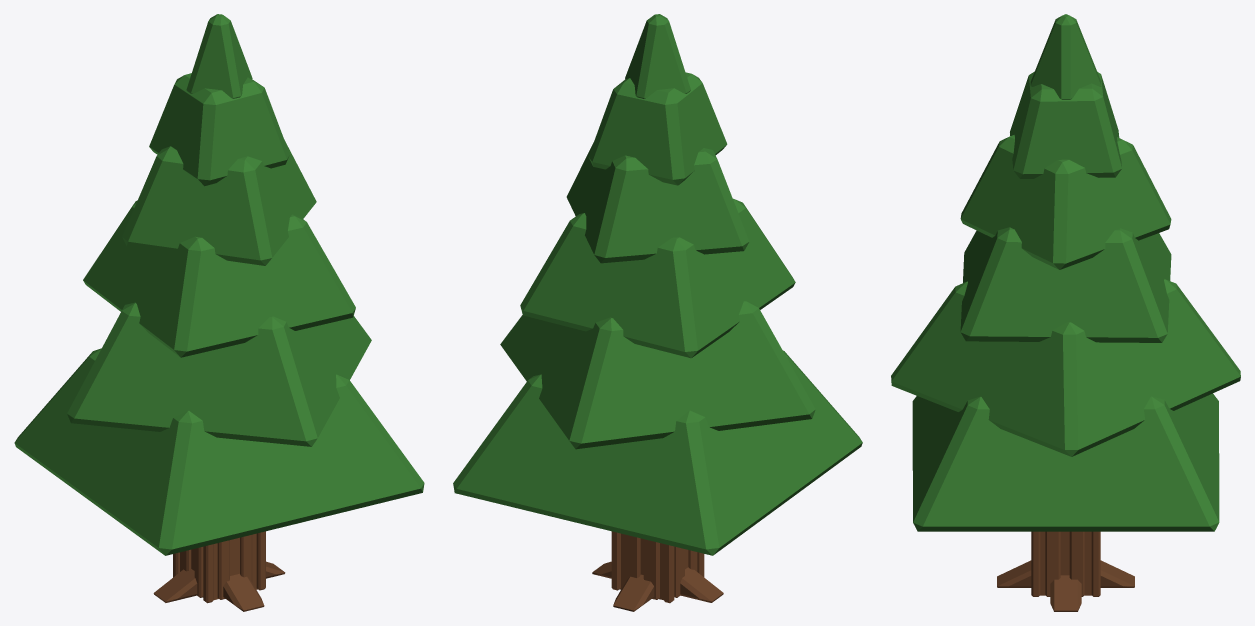
Rendered from Pine.fbx.
The picture shows the model from 3 angles, left to right: view 1: azimuth 30°, elevation 25°; view 2: azimuth 150°, elevation 25°; view 3: azimuth 270°, elevation 25°; orthographic projection.
Visible parts, largest first — view 1: Leaves, LeafBlock_1, LeafBlock_2, LeafBlock_3, LeafBlock_4, Trunk, LeafBlock_5, Root_3, Root_2; view 2: Leaves, LeafBlock_1, LeafBlock_2, LeafBlock_3, LeafBlock_4, Trunk, LeafBlock_5, Root_1, Root_2; view 3: Leaves, LeafBlock_1, LeafBlock_2, LeafBlock_3, LeafBlock_4, Trunk, LeafBlock_5, Root_4, Root_1, Root_3.
Boxes of the visible parts, left/top/right/bottom form: Leaves: left=14, top=348, right=424, bottom=555; LeafBlock_1: left=67, top=302, right=371, bottom=446; LeafBlock_2: left=83, top=200, right=355, bottom=357; LeafBlock_3: left=122, top=139, right=316, bottom=265; LeafBlock_4: left=149, top=73, right=289, bottom=186; Trunk: left=173, top=531, right=265, bottom=603; LeafBlock_5: left=186, top=14, right=252, bottom=98; Root_3: left=223, top=573, right=264, bottom=611; Root_2: left=153, top=569, right=197, bottom=602; Leaves: left=453, top=350, right=862, bottom=555; LeafBlock_1: left=500, top=300, right=815, bottom=449; LeafBlock_2: left=520, top=198, right=795, bottom=358; LeafBlock_3: left=566, top=142, right=749, bottom=263; LeafBlock_4: left=588, top=72, right=727, bottom=185; Trunk: left=611, top=531, right=704, bottom=603; LeafBlock_5: left=625, top=14, right=690, bottom=98; Root_1: left=613, top=574, right=654, bottom=611; Root_2: left=680, top=567, right=723, bottom=602; Leaves: left=912, top=393, right=1219, bottom=531; LeafBlock_1: left=891, top=279, right=1240, bottom=456; LeafBlock_2: left=960, top=227, right=1171, bottom=342; LeafBlock_3: left=960, top=135, right=1171, bottom=269; LeafBlock_4: left=1010, top=71, right=1121, bottom=178; Trunk: left=1031, top=531, right=1100, bottom=596; LeafBlock_5: left=1030, top=14, right=1101, bottom=99; Root_4: left=1050, top=575, right=1081, bottom=611; Root_1: left=1100, top=560, right=1134, bottom=587; Root_3: left=997, top=560, right=1031, bottom=587.
Bounding box in the file's own units: 11.12 × 19.9 × 11.12.
